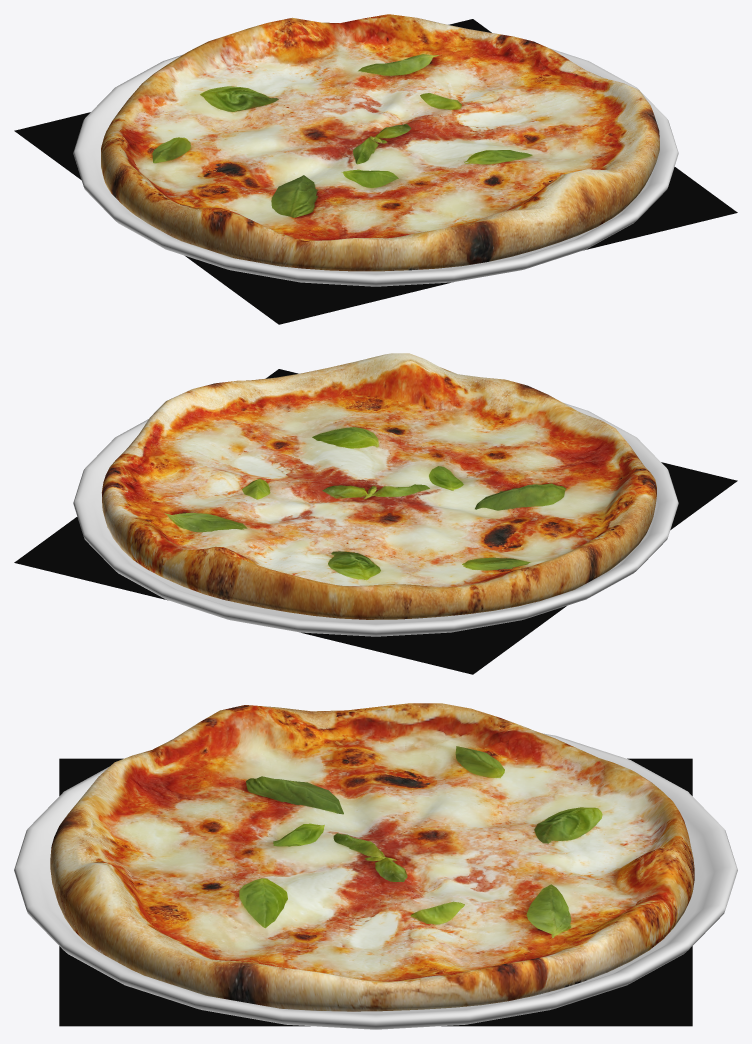
Rendered from Pizza.glb.
3 views of the same model, one above another, from view 1: azimuth 30°, elevation 25°; view 2: azimuth 150°, elevation 25°; view 3: azimuth 270°, elevation 25° (orthographic). The views are drawn at different scales.
Parts seen in each view (by area): view 1: Pizza, Plane; view 2: Pizza, Plane; view 3: Pizza, Plane.
Part boxes in pixels (<box>): Pizza: <box>73,14,678,286</box>; Plane: <box>14,19,737,324</box>; Pizza: <box>73,353,678,636</box>; Plane: <box>14,369,737,674</box>; Pizza: <box>14,703,737,1029</box>; Plane: <box>59,758,692,1026</box>.
Size of the model in its own units: 2.29 by 0.2643 by 2.29.
Materials: 5 (2 with a texture image).
